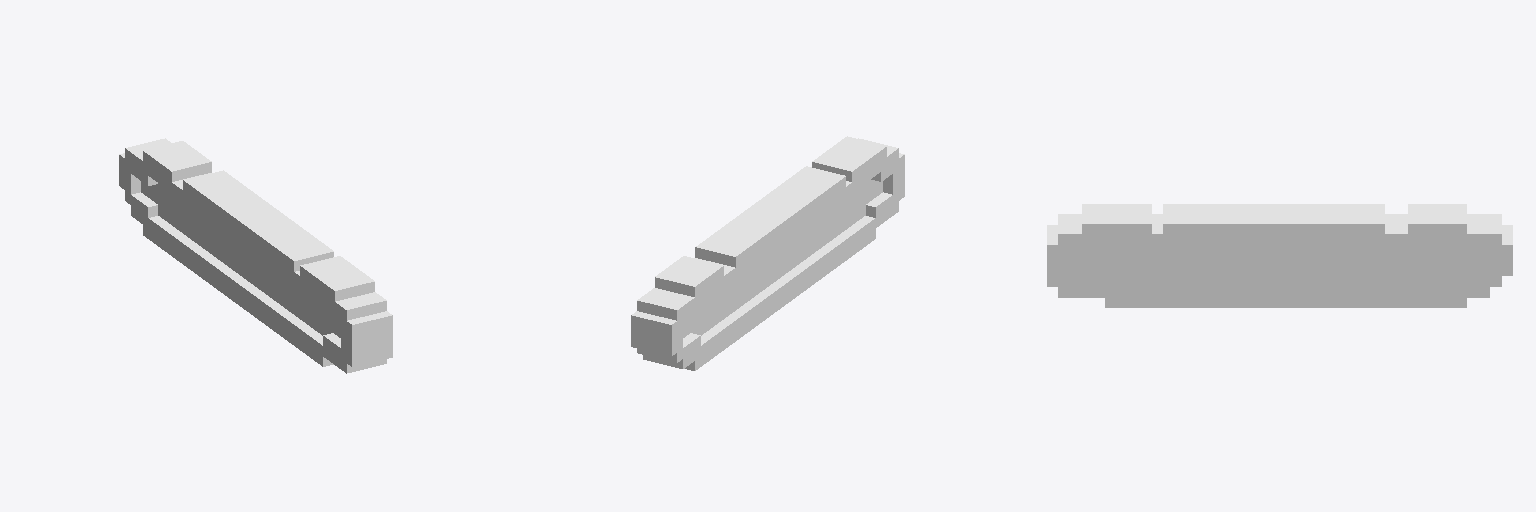
File: firsttank-9.obj
3 views of the same model, side by side, from view 1: azimuth 30°, elevation 25°; view 2: azimuth 150°, elevation 25°; view 3: azimuth 270°, elevation 25° (orthographic).
Visible parts, largest first — view 1: object 1; view 2: object 1; view 3: object 1.
Part boxes in pixels (x1,y1,x2,y2): object 1: (119,138,392,373); object 1: (631,136,904,370); object 1: (1047,204,1512,307).
Bounding box in the file's own units: 0.4 × 0.8 × 4.